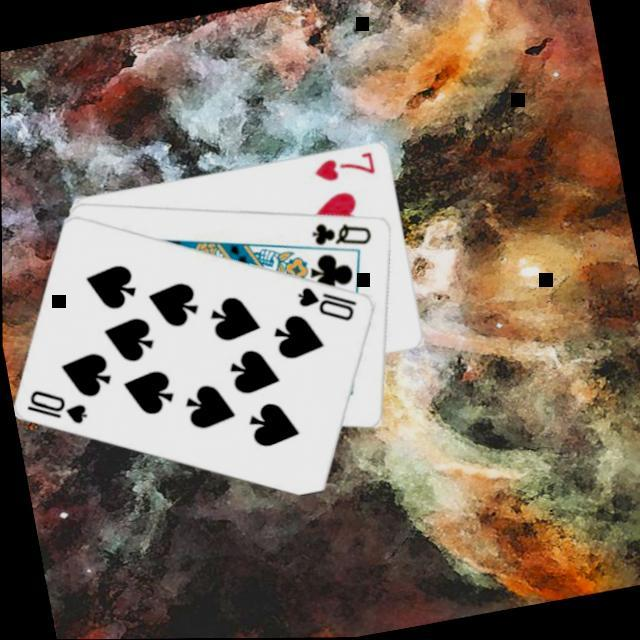10S: (18, 376, 90, 434), (291, 274, 362, 332)
7H: (308, 147, 378, 186)
QC: (304, 210, 374, 256)
